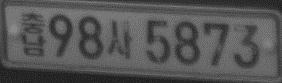3: (232, 23, 259, 69)
5: (145, 19, 171, 63)
7: (203, 21, 230, 65)
8: (174, 20, 200, 65), (78, 15, 103, 60)
9: (48, 13, 73, 56)
사: (106, 20, 133, 59)
충남_V: (20, 12, 46, 57)
